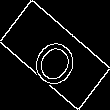O_NE: (25, 22, 85, 88)
